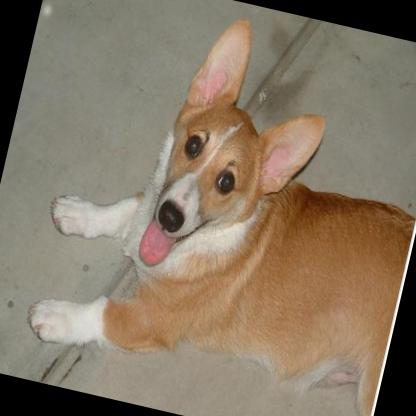Pembroke: (13, 0, 416, 416)
